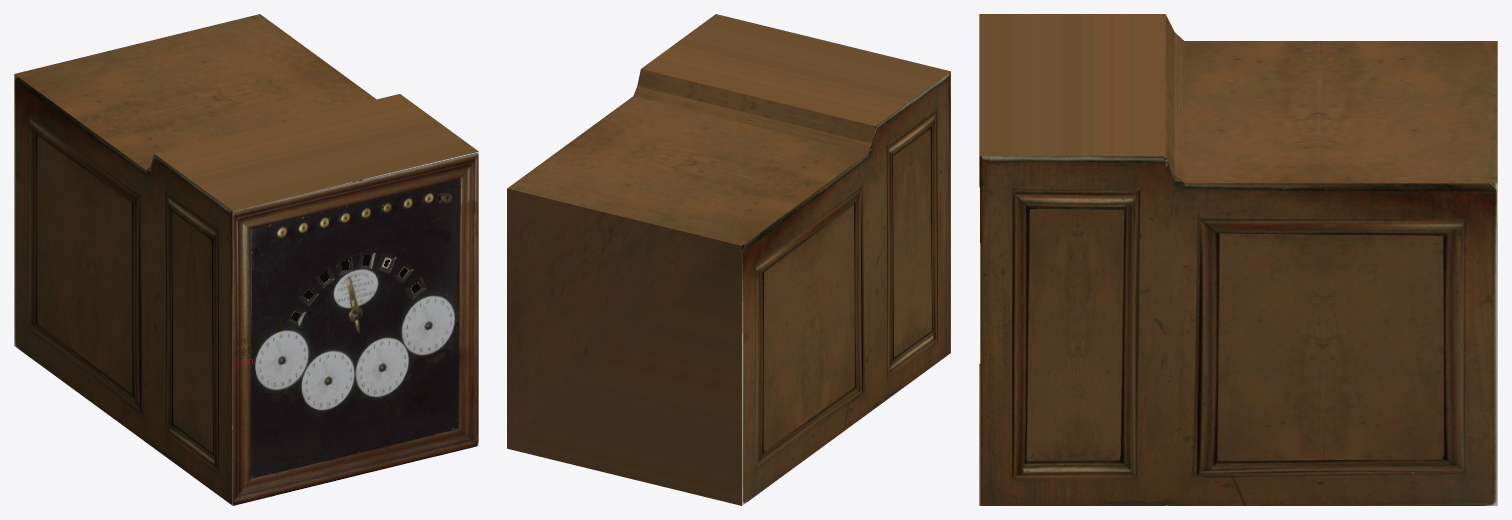
Rendered from boitier2.dae.
The picture shows the model from 3 angles, left to right: view 1: azimuth 30°, elevation 25°; view 2: azimuth 150°, elevation 25°; view 3: azimuth 270°, elevation 25°; orthographic projection. The views are drawn at different scales.
Parts seen in each view (by area): view 1: boitier; view 2: boitier; view 3: boitier.
Boxes of the visible parts, left/top/right/bottom form: boitier: left=14, top=14, right=478, bottom=505; boitier: left=507, top=14, right=950, bottom=505; boitier: left=979, top=14, right=1497, bottom=505.
Size of the model in its own units: 9.19 by 14.16 by 10.53.
2 materials, 2 textured.
